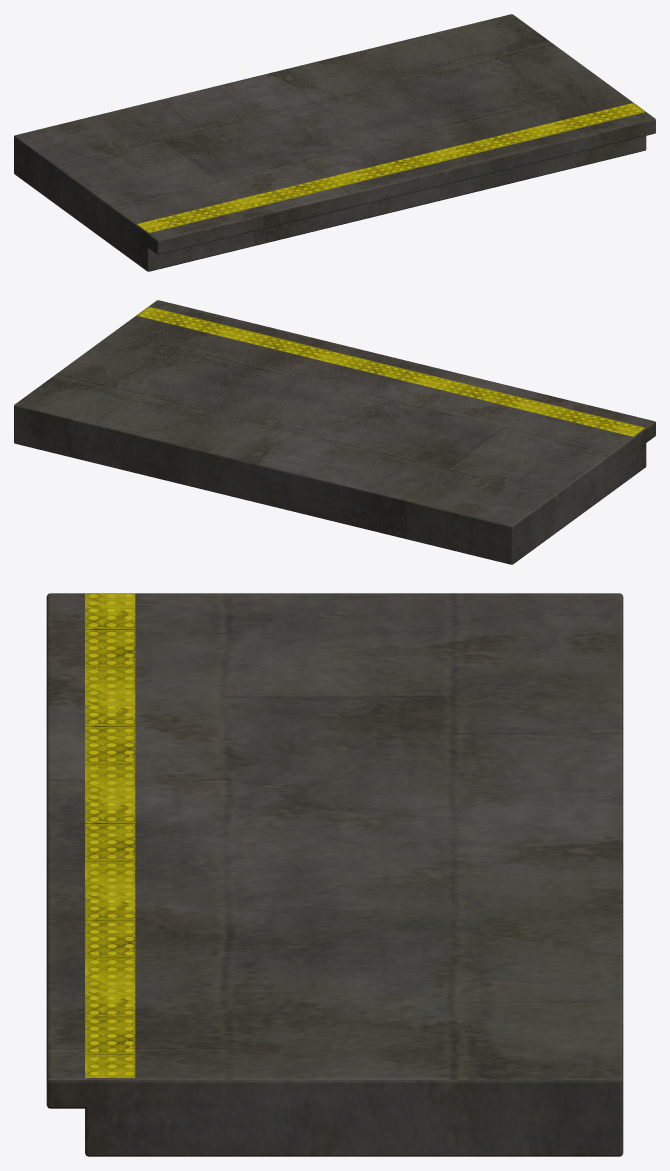
Rendered from SM_Platform_8m.fbx.
The picture shows the model from 3 angles, top to bottom: view 1: azimuth 30°, elevation 25°; view 2: azimuth 150°, elevation 25°; view 3: azimuth 270°, elevation 25°; orthographic projection. The views are drawn at different scales.
Visible parts, largest first — view 1: SM_Platform_8m; view 2: SM_Platform_8m; view 3: SM_Platform_8m.
Part boxes in pixels (left/top/right/bottom): SM_Platform_8m: left=14, top=14, right=655, bottom=271; SM_Platform_8m: left=14, top=300, right=655, bottom=564; SM_Platform_8m: left=46, top=593, right=623, bottom=1156.
Size of the model in its own units: 8 by 4 by 0.6.
